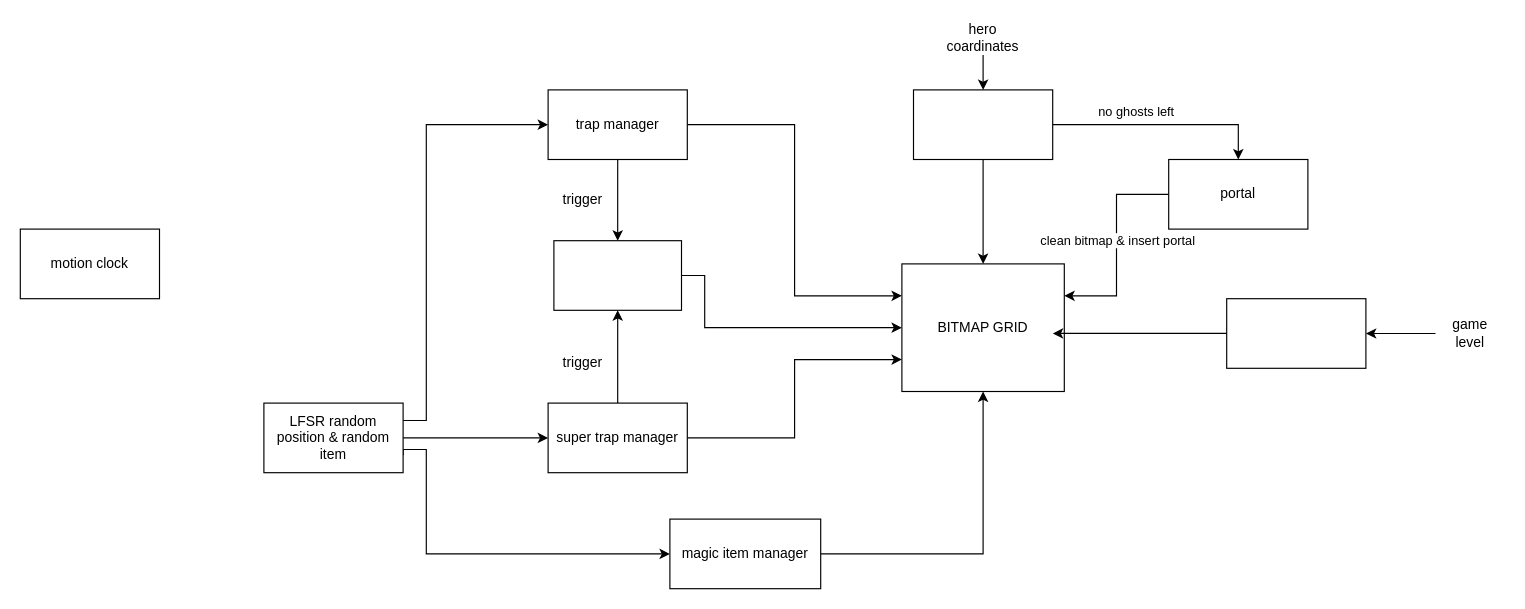
The diagram is 1525 pixels wide and 609 high, and some of its shapes have lost their labels. The centre of each missing label's shape, as x and y in pixels:
"ghost explosion manager" belongs at point 617,275.
"ghost manager" belongs at point 982,124.
"graves of fury" belongs at point 1296,333.
